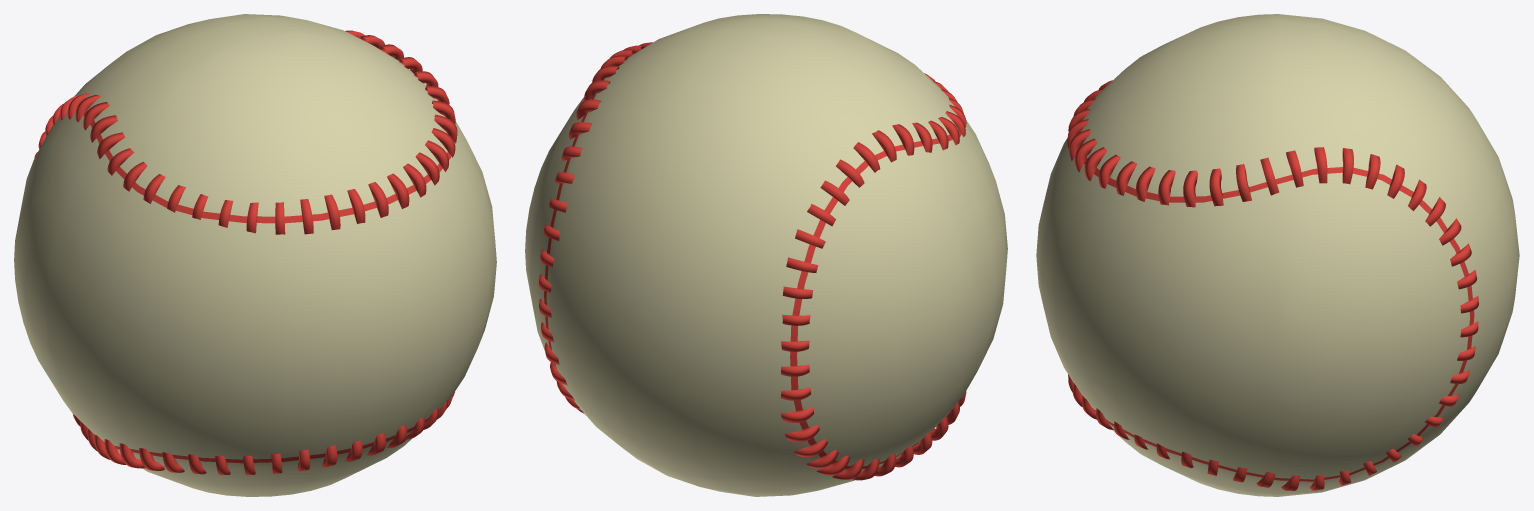
The model's file is baseball ball.fbx.
3 views of the same model, side by side, from view 1: azimuth 30°, elevation 25°; view 2: azimuth 150°, elevation 25°; view 3: azimuth 270°, elevation 25° (orthographic).
Visible parts, largest first — view 1: Sphere.001; view 2: Sphere.001; view 3: Sphere.001.
Boxes of the visible parts, bbox=[...] form: Sphere.001: bbox=[14, 14, 496, 496]; Sphere.001: bbox=[525, 14, 1007, 496]; Sphere.001: bbox=[1036, 14, 1519, 496].
Bounding box in the file's own units: 183 × 183 × 183.
